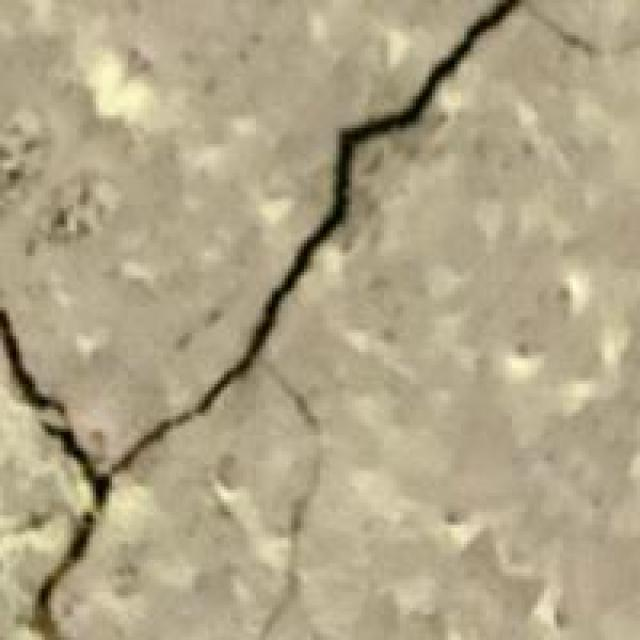crack: (0, 0, 518, 637)
